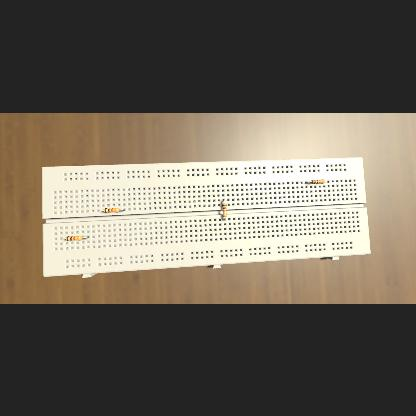breadboard: (42, 157, 370, 278)
resistor: (222, 202, 228, 216), (66, 235, 82, 240), (104, 208, 120, 212), (311, 179, 325, 183)
wire: (83, 236, 89, 238), (223, 200, 225, 202), (101, 209, 103, 210), (223, 217, 224, 219), (64, 237, 66, 238), (305, 182, 311, 182)
